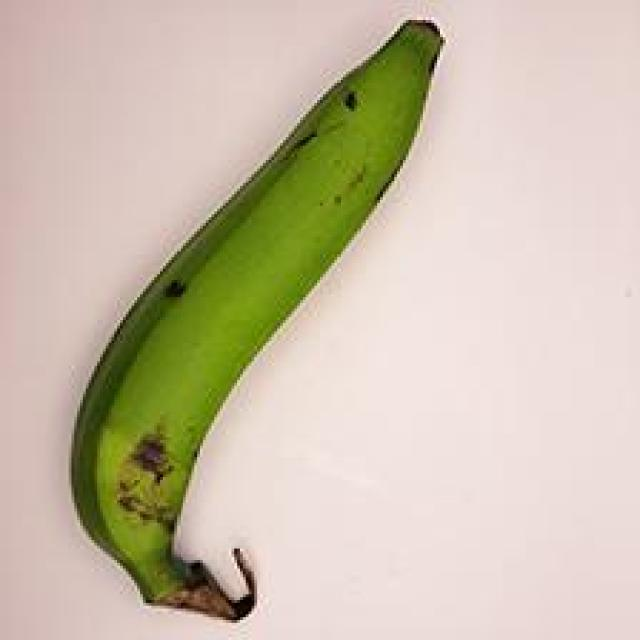Raw: (27, 12, 482, 635)
